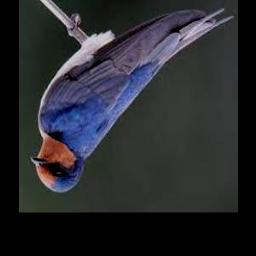Swallow: (32, 8, 234, 192)
